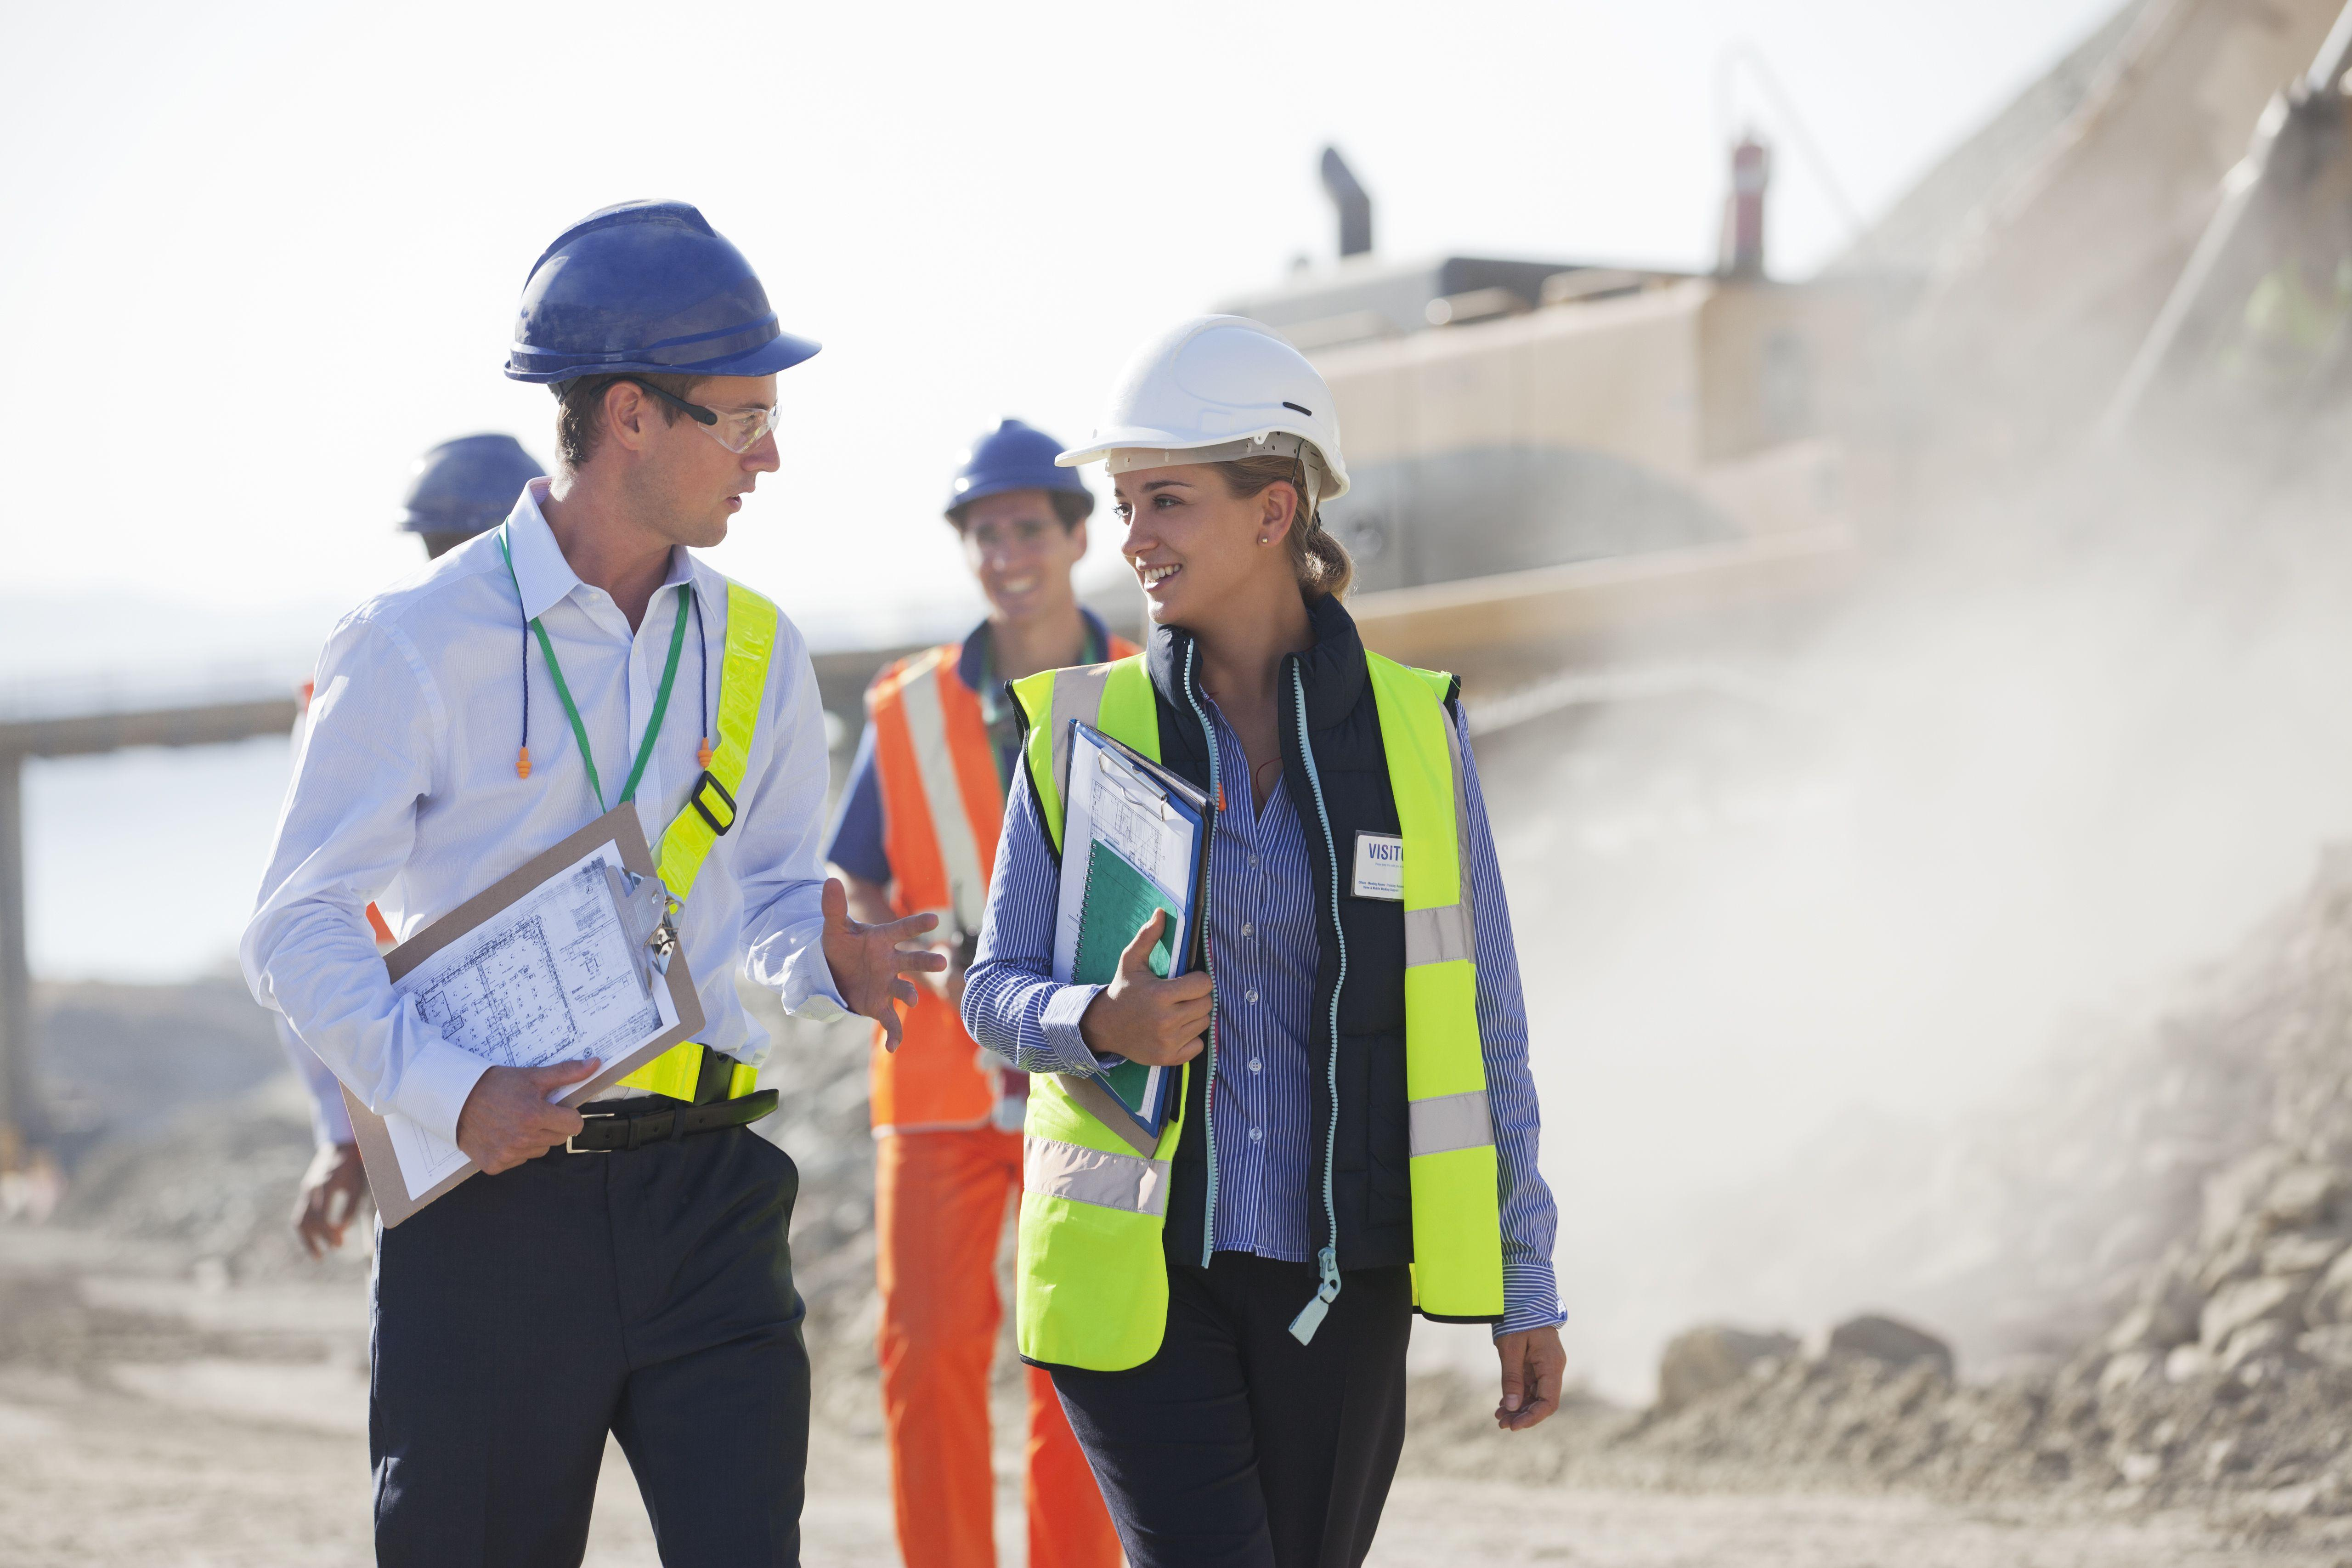helmet: (507, 194, 815, 397), (1055, 308, 1370, 493), (940, 409, 1090, 535), (388, 430, 556, 542)
